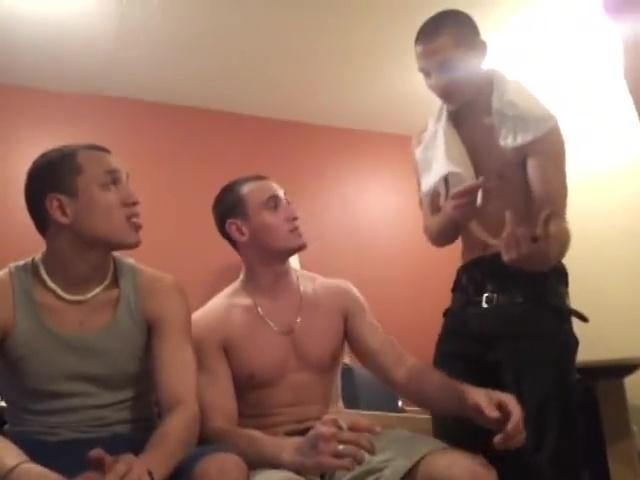cigarette: (476, 173, 487, 211)
